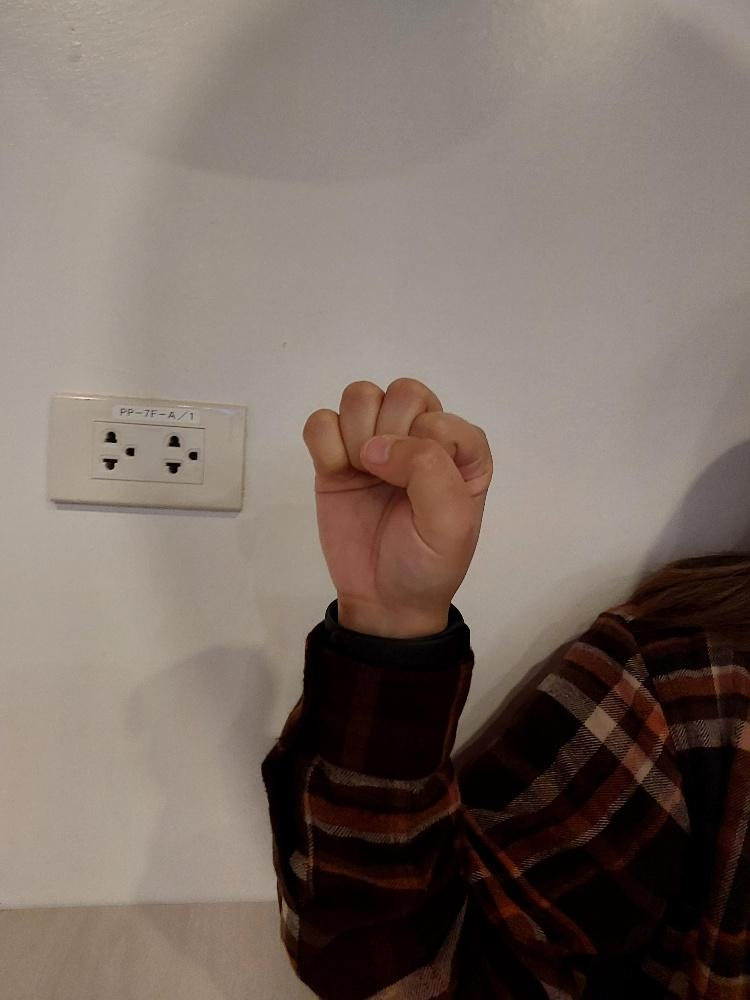s: (298, 371, 496, 623)
